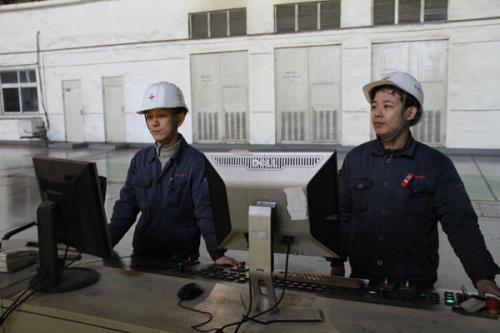helmet: (358, 61, 428, 143), (133, 76, 193, 143)
